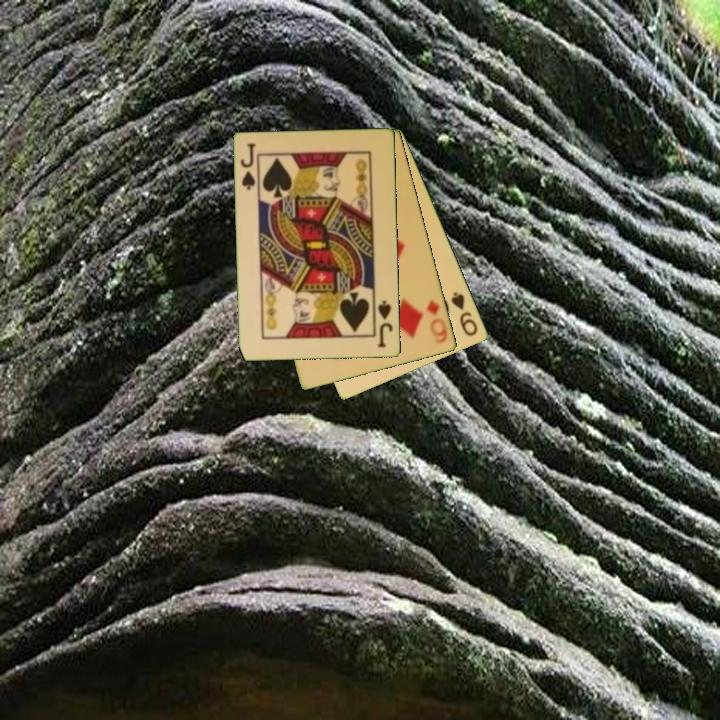6d: (423, 297, 451, 346)
9s: (448, 288, 481, 339)
Js: (374, 297, 396, 351), (237, 140, 259, 193)
